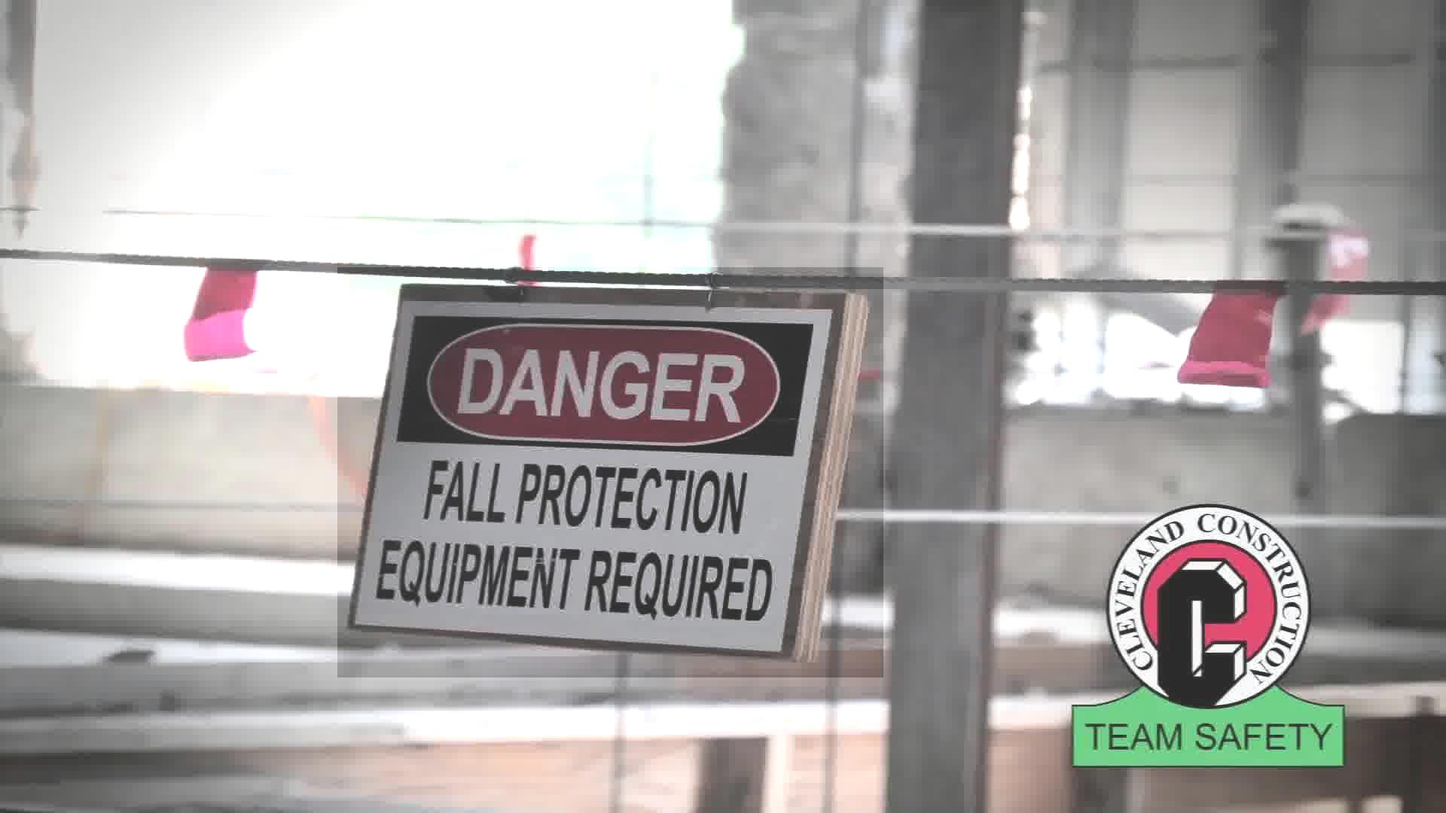safety_signage: (337, 267, 883, 677)
